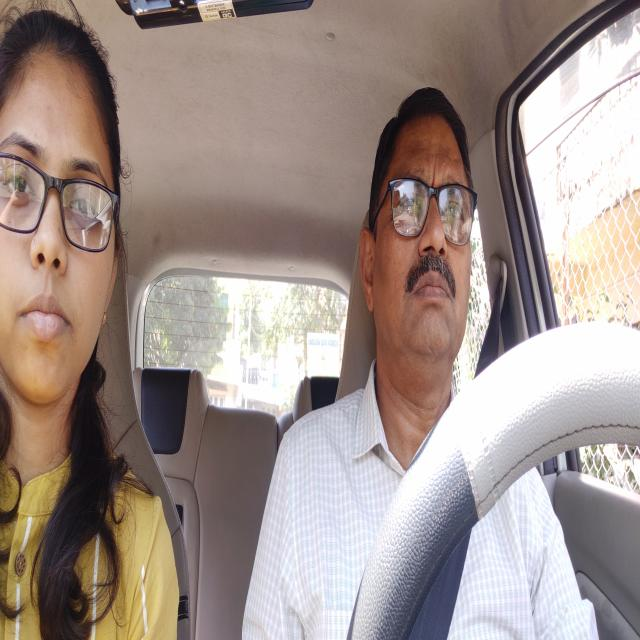person: (0, 3, 130, 424), (358, 63, 489, 413)
